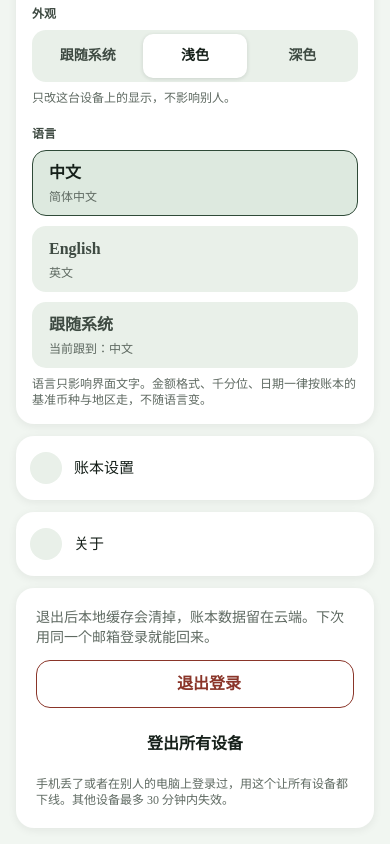
Test: 退出登录 is disabled while 登出所有设备 is pending
This screenshot has width=390, height=844.
(page scrolled)
Expected: the button with test id "settings-logout" is enabled, [36,660,354,708]
Click the button with test id "settings-logout-all": (195, 744) [36,720,354,768]
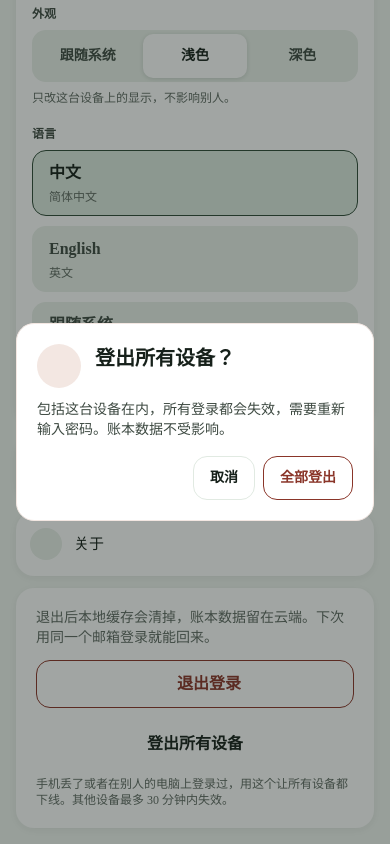
Click the button with test id "confirm-accept": (308, 478) [263,456,353,500]
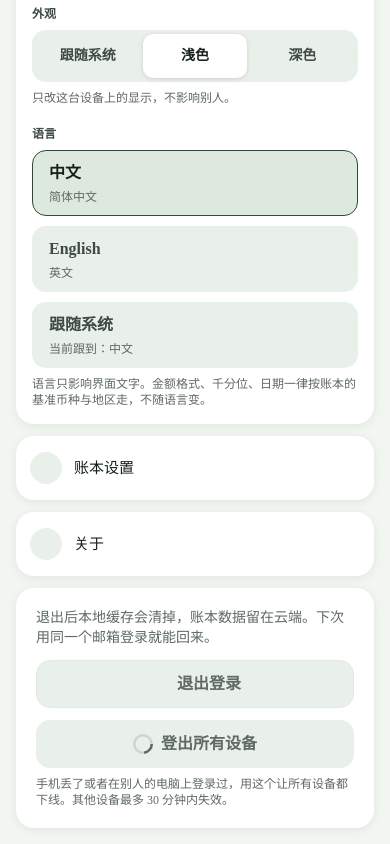
Now the button with test id "settings-logout" is disabled, box [36,660,354,708]
Now the button with test id "settings-logout-all" is disabled, box [36,720,354,768]
